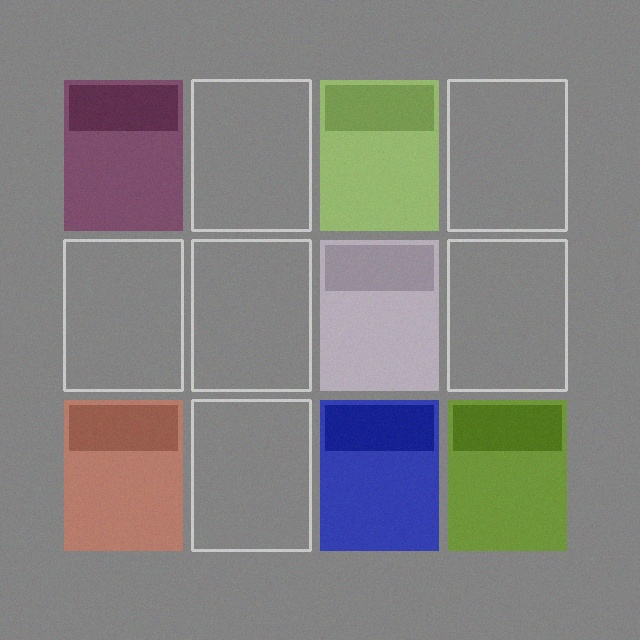space-empty: (192, 80, 310, 230), (448, 80, 566, 230), (64, 240, 182, 390), (192, 240, 310, 390), (448, 240, 566, 390), (192, 400, 310, 550)
space-occupied: (64, 80, 182, 230), (320, 80, 438, 230), (320, 240, 438, 390), (64, 400, 182, 550), (320, 400, 438, 550), (448, 400, 566, 550)
